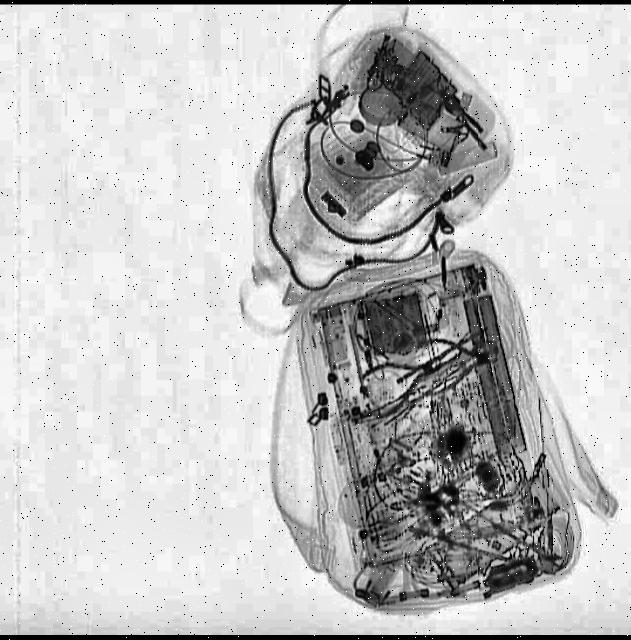Pliers: (354, 344, 453, 426), (413, 326, 504, 402)
